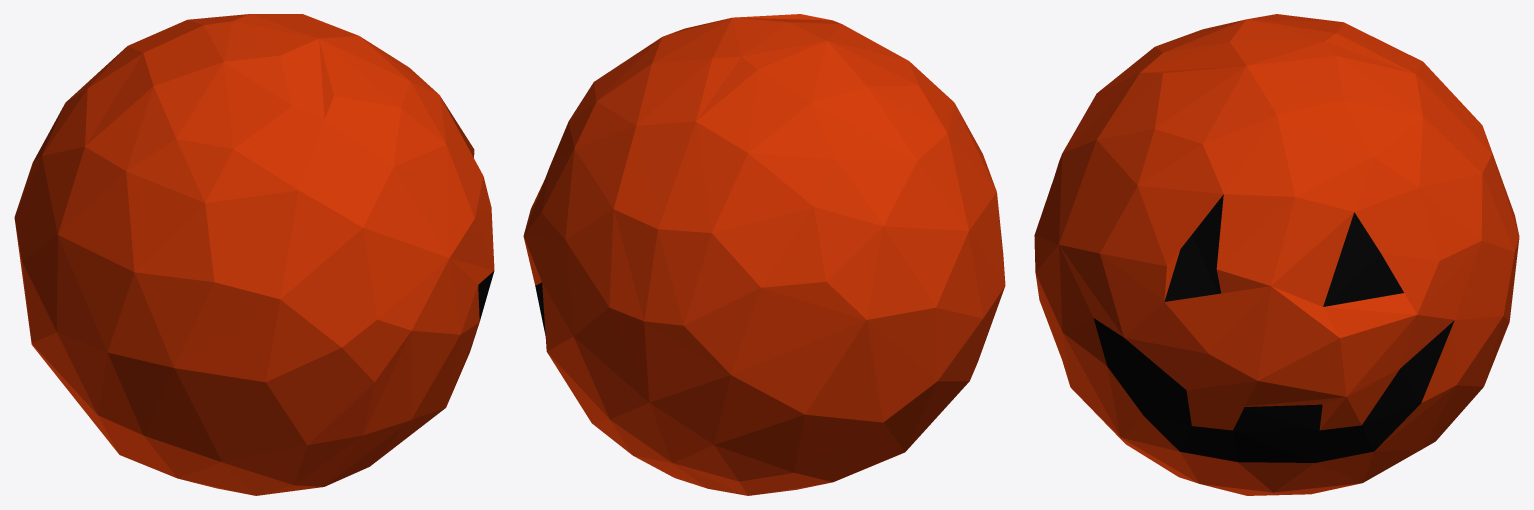
The model's file is Candy5.fbx.
3 renders of one model, left to right at view 1: azimuth 30°, elevation 25°; view 2: azimuth 150°, elevation 25°; view 3: azimuth 270°, elevation 25°, orthographic.
Visible parts, largest first — view 1: Candy5; view 2: Candy5; view 3: Candy5.
Part boxes in pixels (x1,y1,x2,y2): Candy5: [14, 14, 494, 495]; Candy5: [523, 14, 1005, 495]; Candy5: [1034, 14, 1519, 495].
Bounding box in the file's own units: 1961 × 1923 × 1962.
